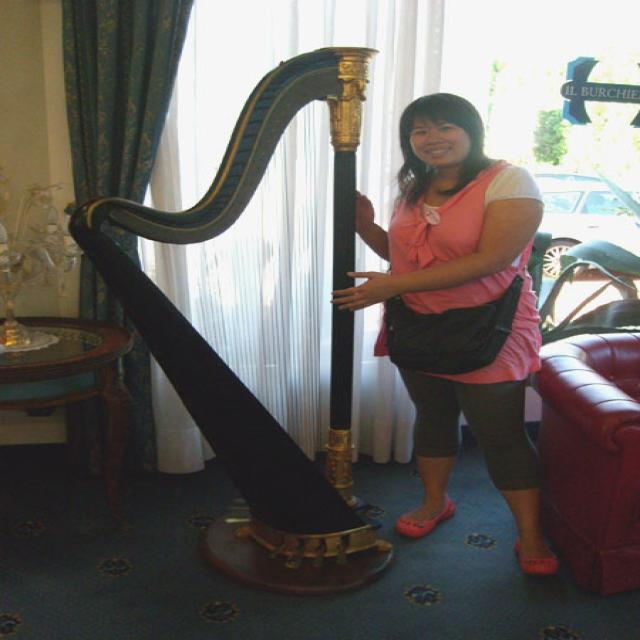harp: (61, 42, 393, 582)
